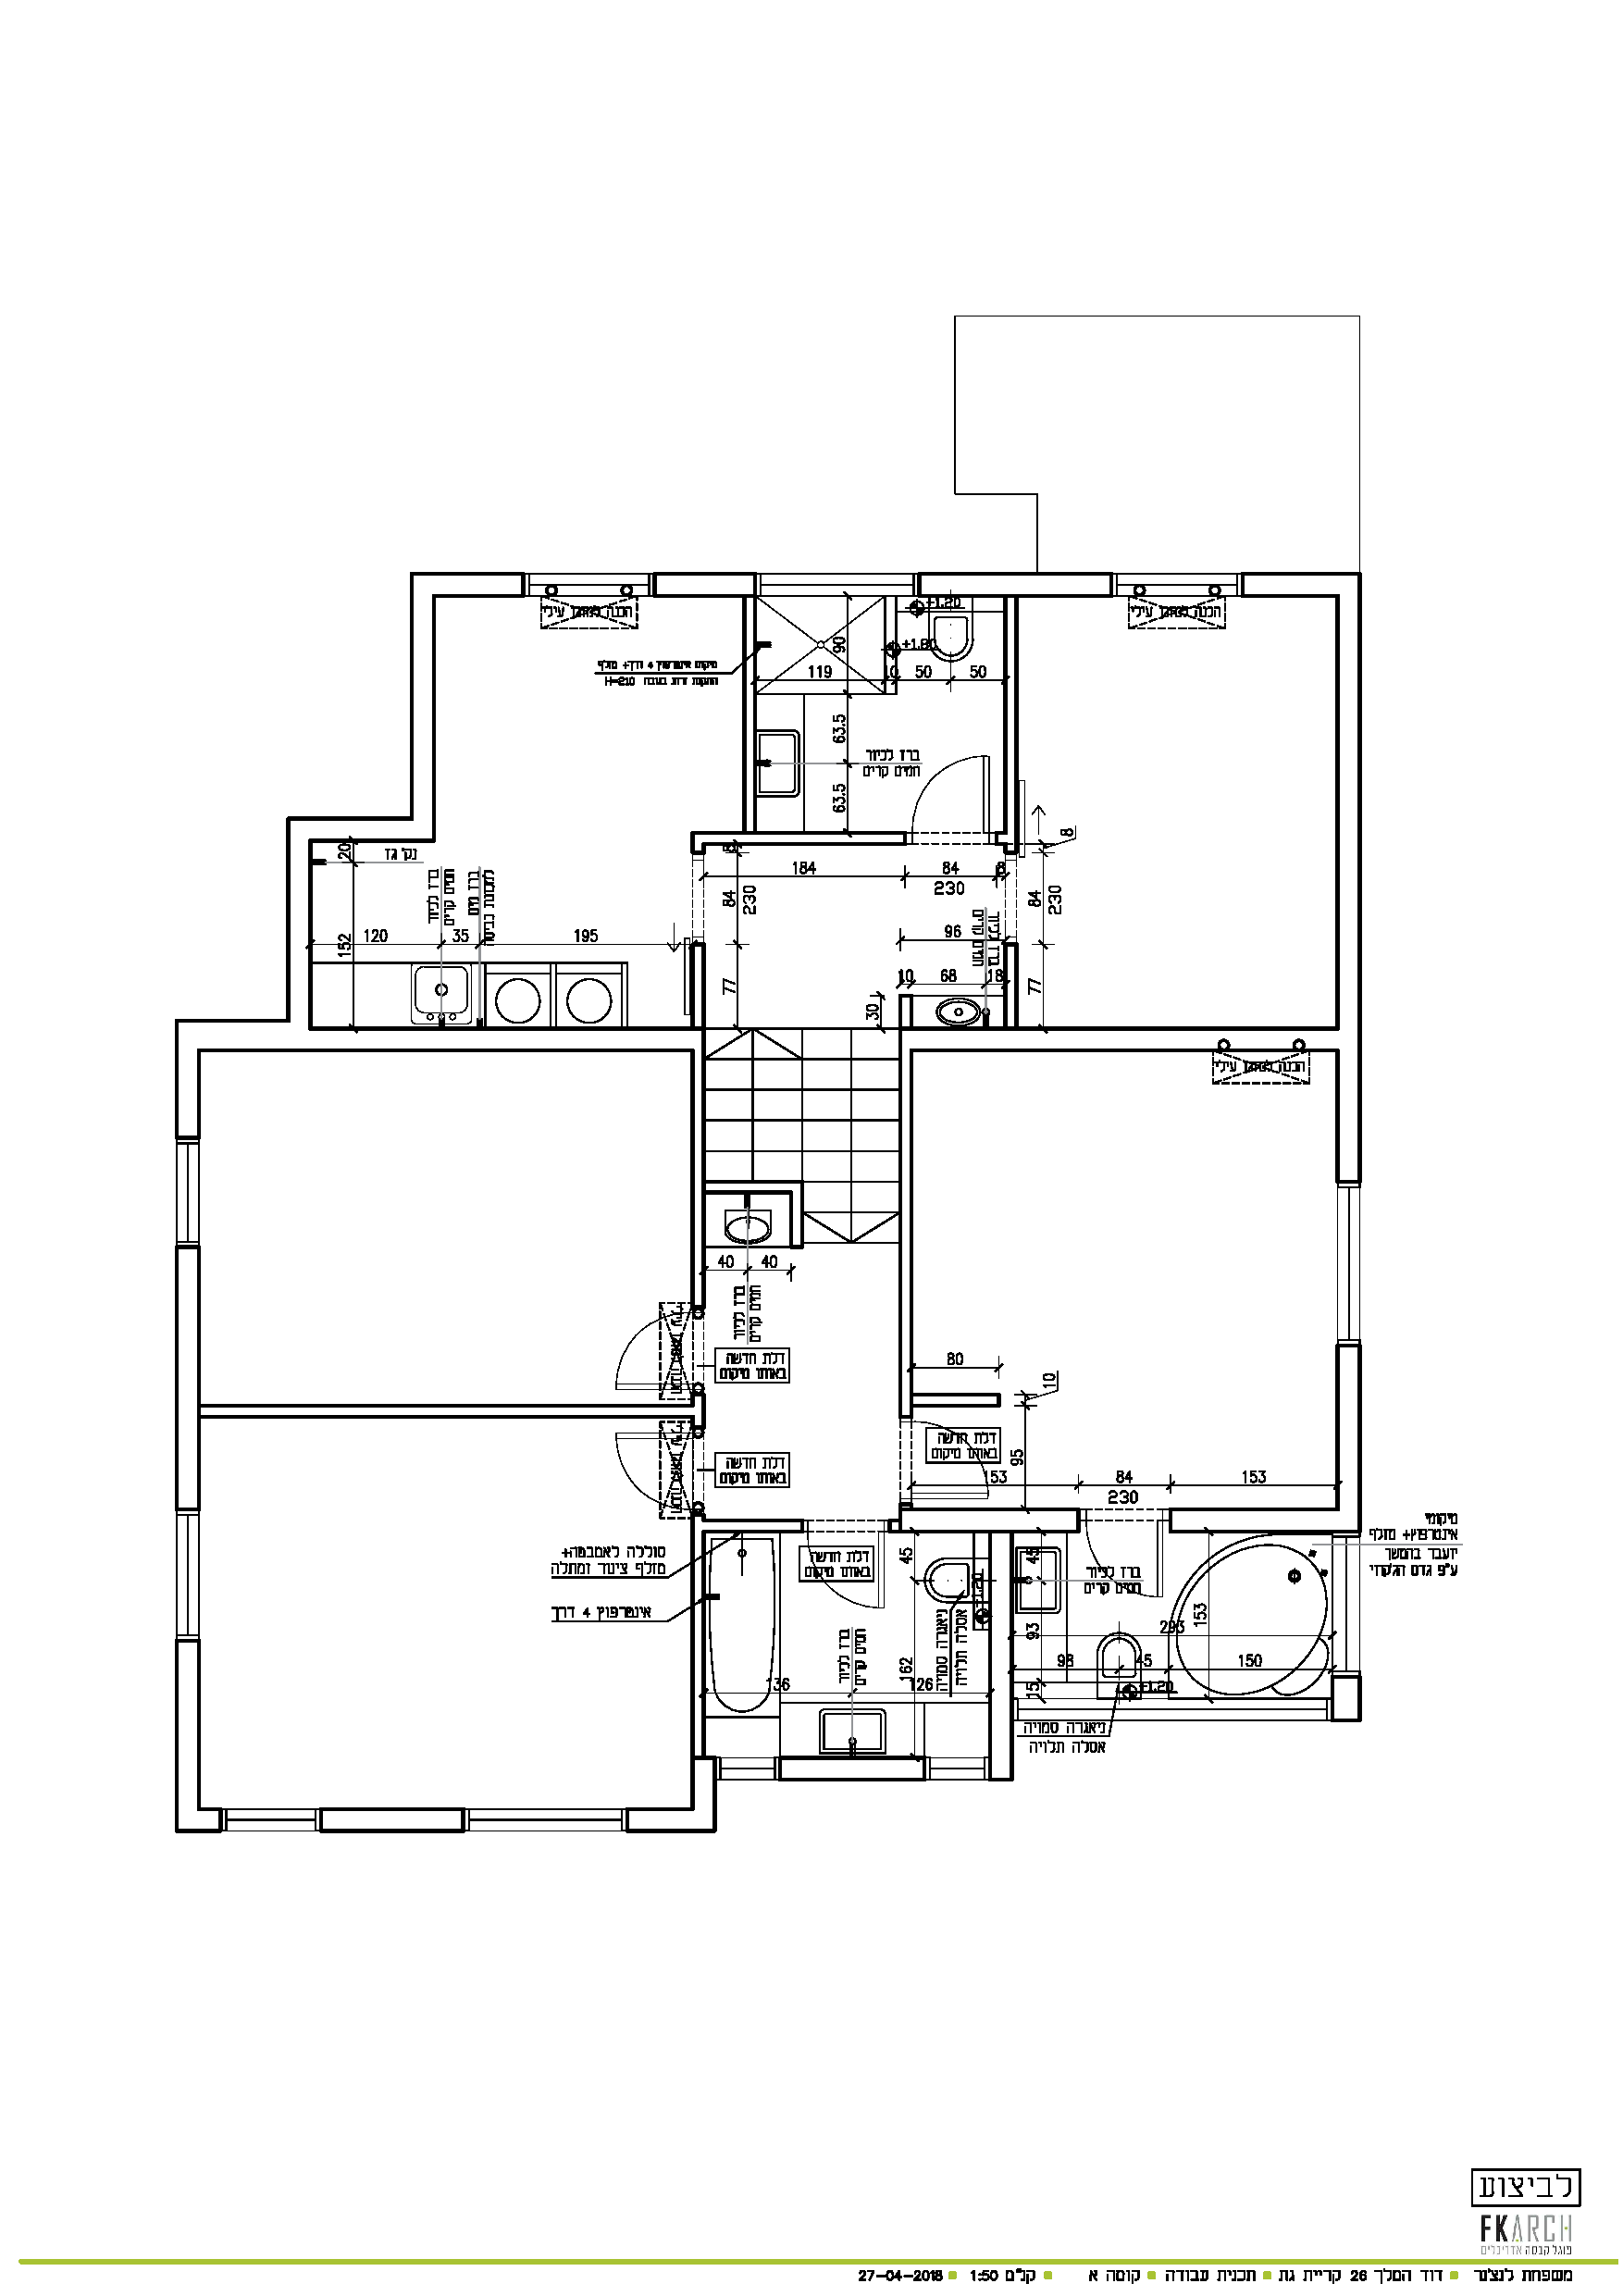window: (759, 574, 917, 597), (464, 1811, 625, 1832), (1338, 1186, 1360, 1340), (179, 1516, 200, 1634), (174, 1142, 198, 1240), (221, 1806, 316, 1827)
